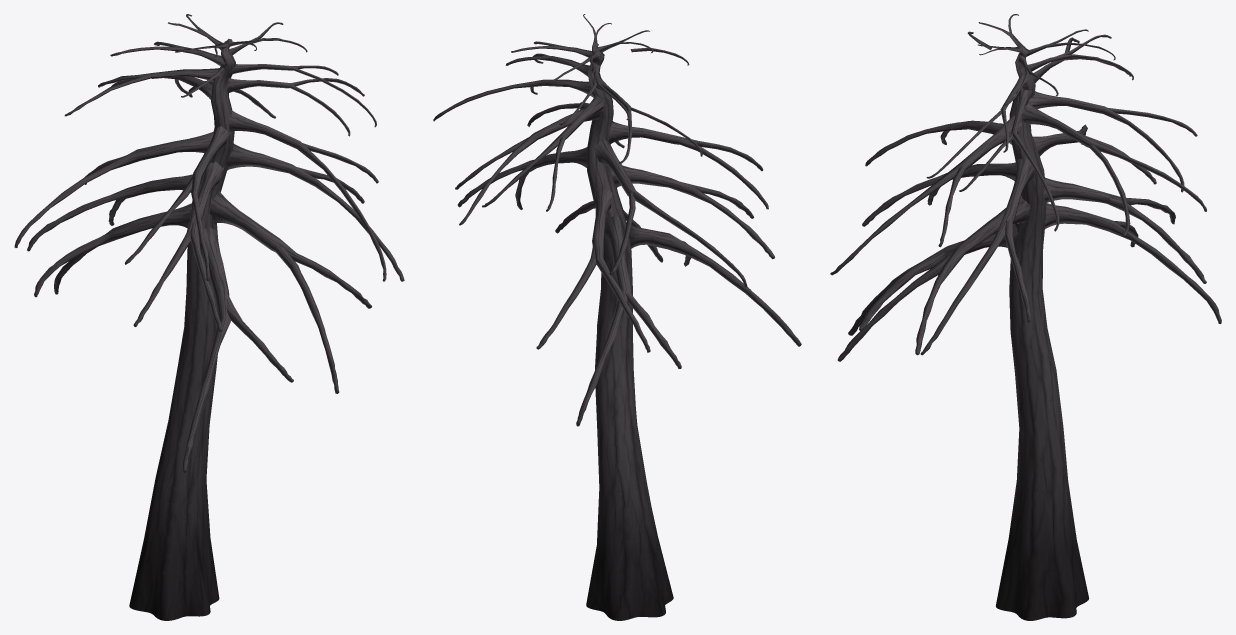
File: deadtree_4.gltf
3 views of the same model, side by side, from view 1: azimuth 30°, elevation 25°; view 2: azimuth 150°, elevation 25°; view 3: azimuth 270°, elevation 25° (orthographic). The views are drawn at different scales.
Parts seen in each view (by area): view 1: DeadTree_4; view 2: DeadTree_4; view 3: DeadTree_4.
Part boxes in pixels (box(x1,y1,x2,y2)): DeadTree_4: box(14, 14, 404, 620); DeadTree_4: box(433, 14, 801, 620); DeadTree_4: box(830, 14, 1221, 620).
Size of the model in its own units: 7.96 by 12.77 by 7.73.
Materials: 1 (1 with a texture image).
